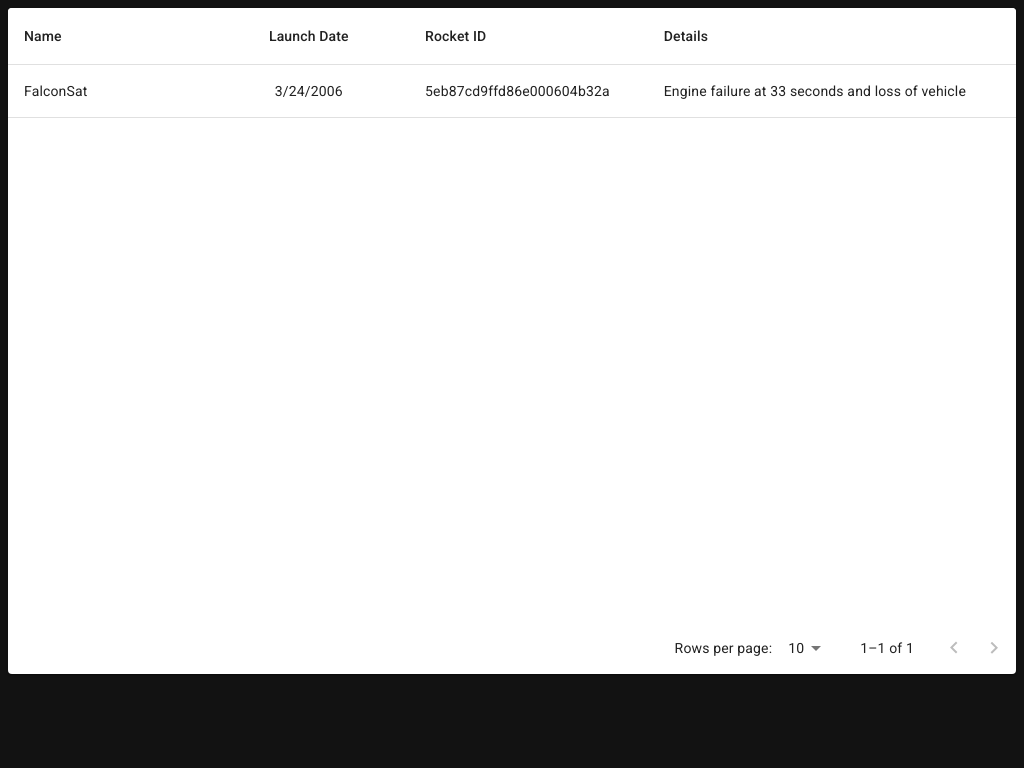
Test: LaunchTable › handles row clicks to open a dialog
What coordinates should you click on to do the following:
click the text "FalconSat"
I would click on:
 (108, 92)
Its box is 8,65 -> 208,118.
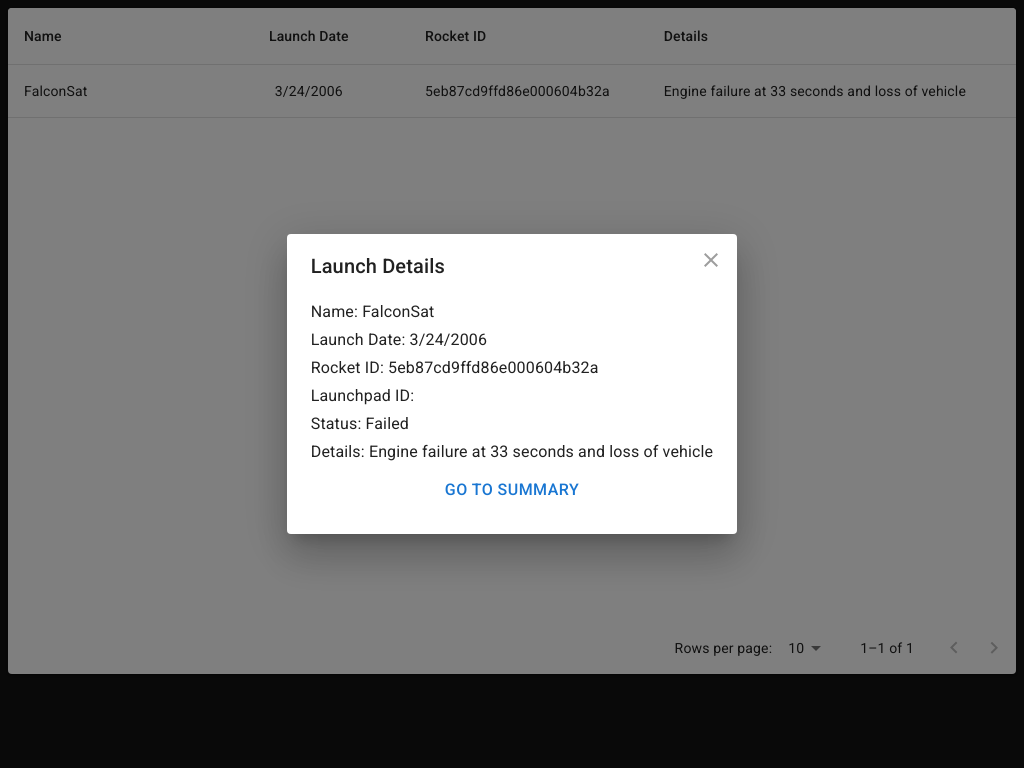
expect the dialog is shown: met, box 287,234 -> 737,534
